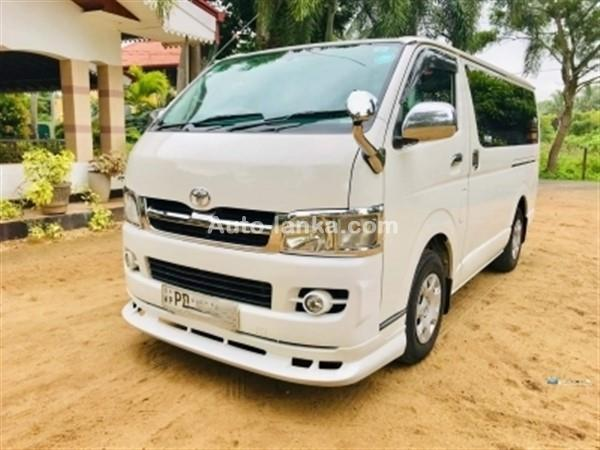van: (121, 35, 540, 387)
